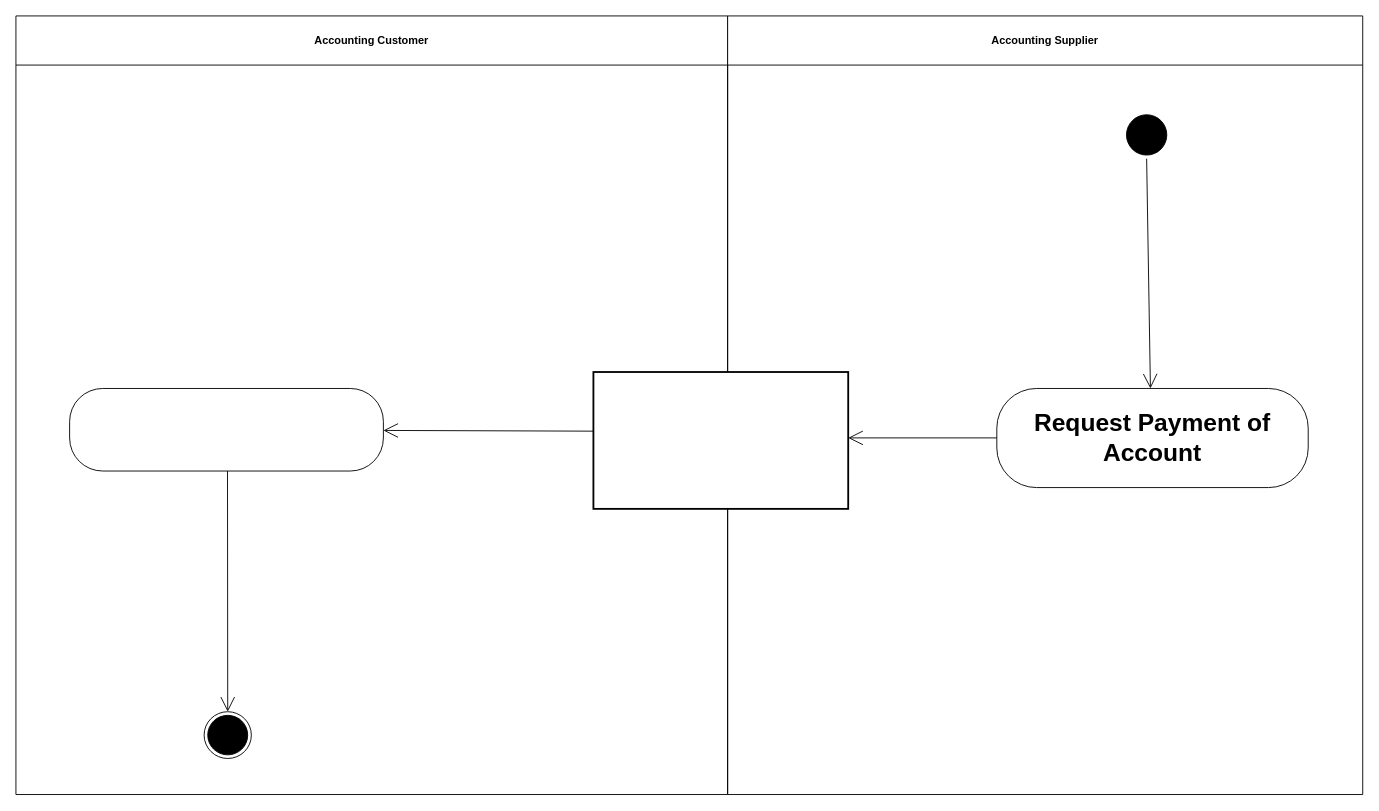
The diagram is 1379 pixels wide and 811 high, and some of its shapes have lost their labels. The centre of each missing label's shape, as x and y in pixels:
"Receive Reminder" belongs at point 226,429.
"Reminder" belongs at point 720,440.
